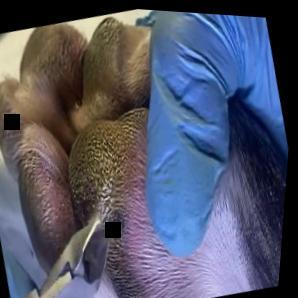keratosis: (54, 95, 182, 245)
